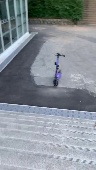beam: (51, 52, 66, 88)
